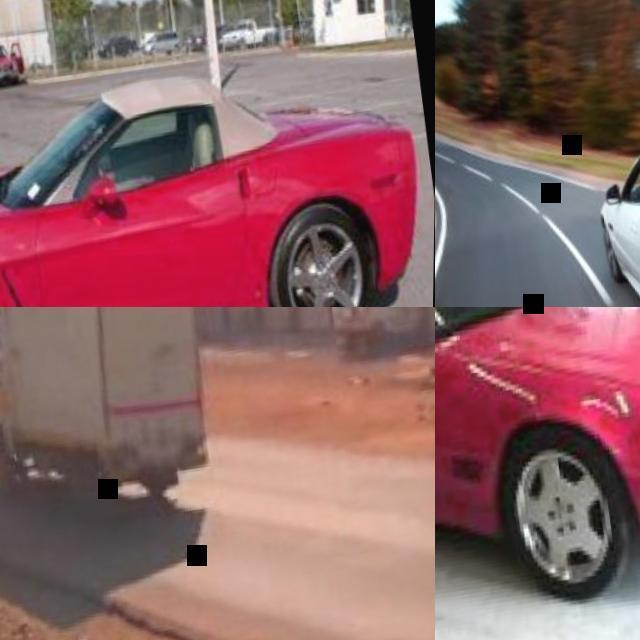car: (600, 160, 639, 309)
